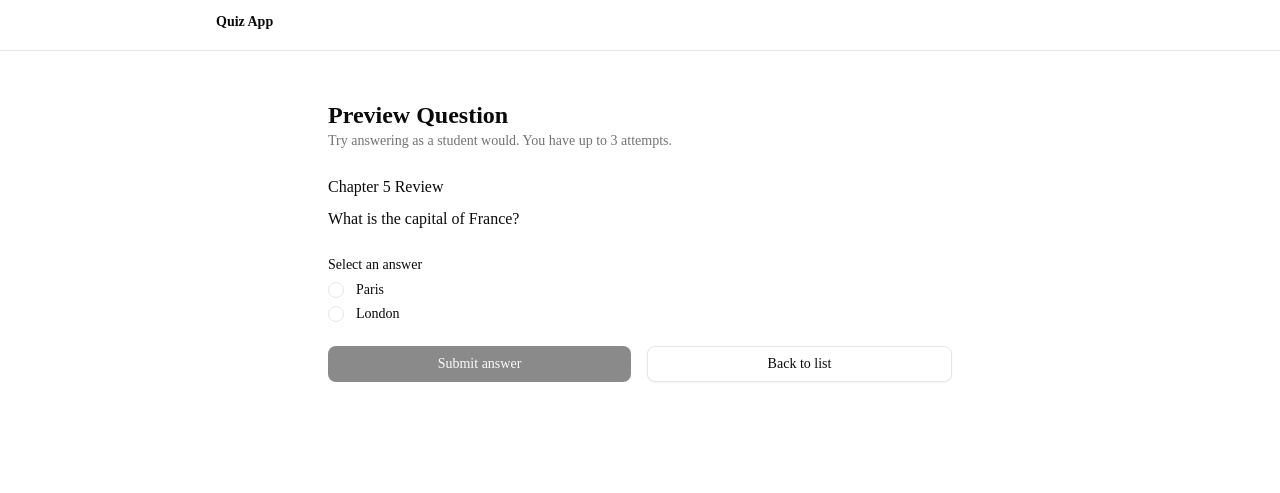
Test: McqPreview › shows the correct answer after the third failed attempt
Click the radio button named "London" next to "London".
click(336, 314)  # box x1=328 y1=306 x2=344 y2=322
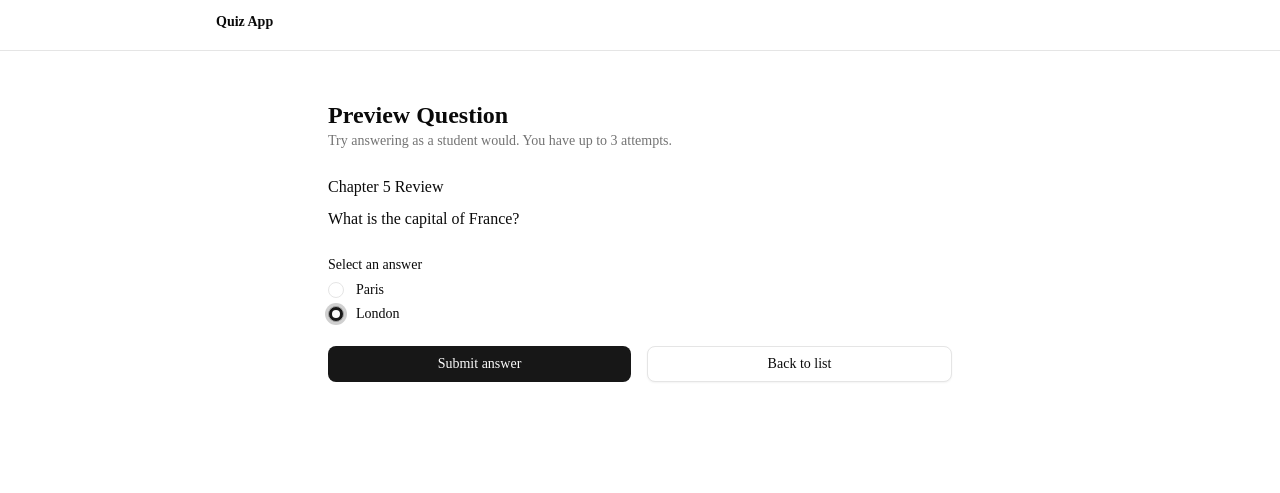
Click the button "Submit answer".
click(480, 364)  # box x1=328 y1=346 x2=631 y2=382
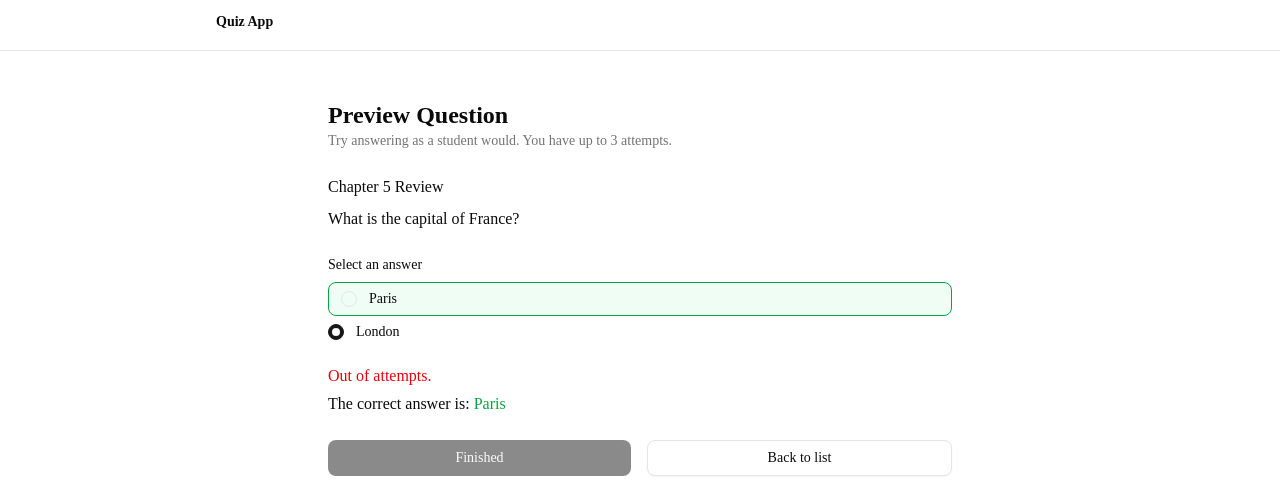
Expected: the number of radio buttons "Paris" is 2, x1=369 y1=292 x2=397 y2=306; x1=474 y1=395 x2=506 y2=412
Expected: the text "Out of attempts." is shown, x1=328 y1=367 x2=432 y2=384
Expected: the text "The correct answer is: Paris" is shown, x1=328 y1=395 x2=506 y2=412
